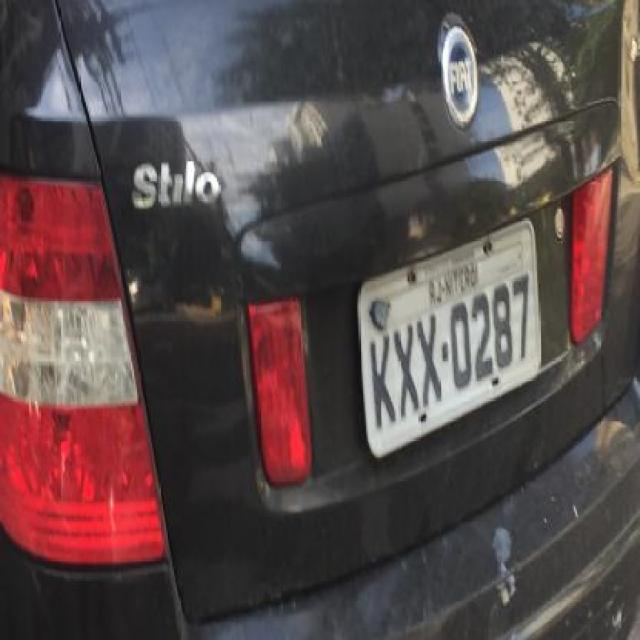old_plate: (348, 213, 550, 473)
